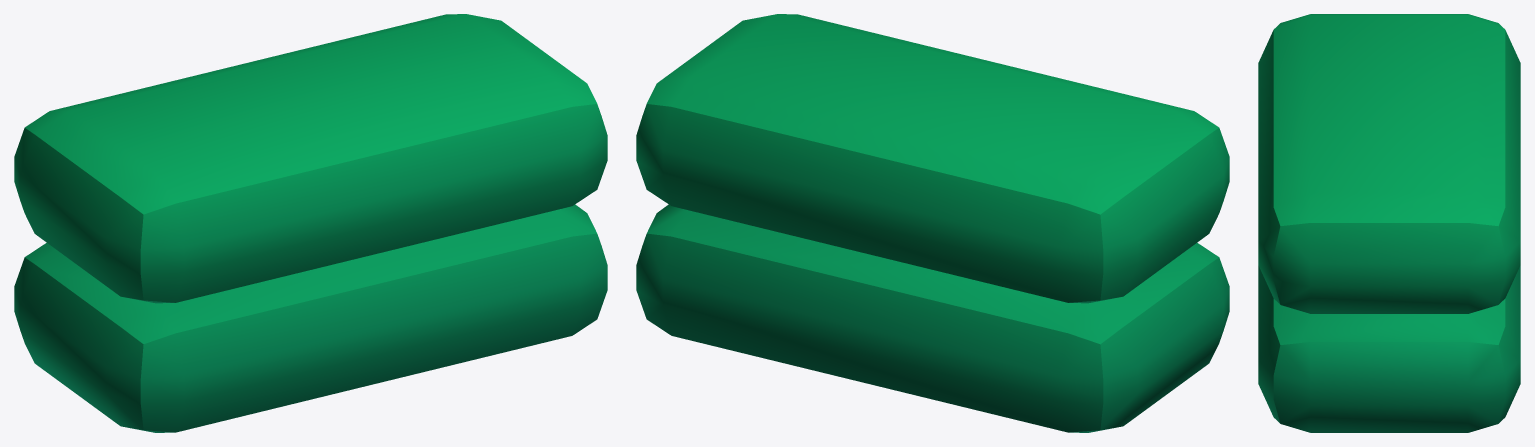
The model's file is barrier_2x1x1_green.glb.
3 views of the same model, side by side, from view 1: azimuth 30°, elevation 25°; view 2: azimuth 150°, elevation 25°; view 3: azimuth 270°, elevation 25° (orthographic). The views are drawn at different scales.
Parts seen in each view (by area): view 1: barrier_2x1x1_green; view 2: barrier_2x1x1_green; view 3: barrier_2x1x1_green.
Part boxes in pixels (<box>): barrier_2x1x1_green: <box>14,14,607,432</box>; barrier_2x1x1_green: <box>636,14,1229,432</box>; barrier_2x1x1_green: <box>1258,14,1520,432</box>.
Bounding box in the file's own units: 2 × 1 × 1.
1 material, 1 textured.
